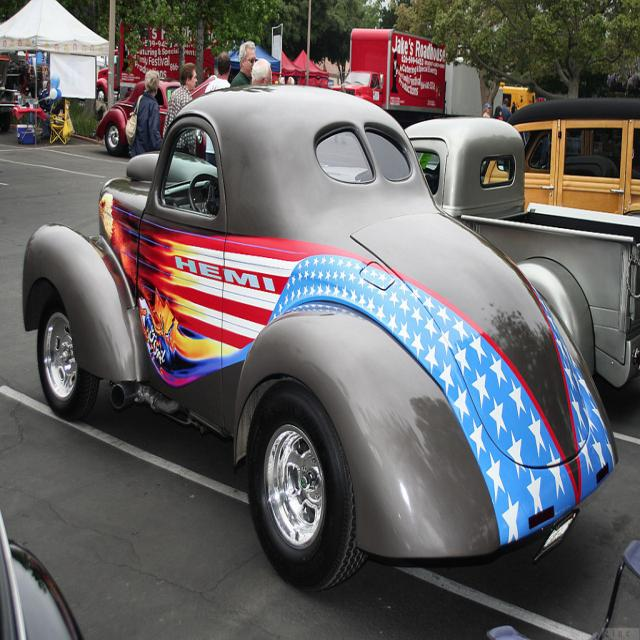car: (23, 85, 623, 591)
